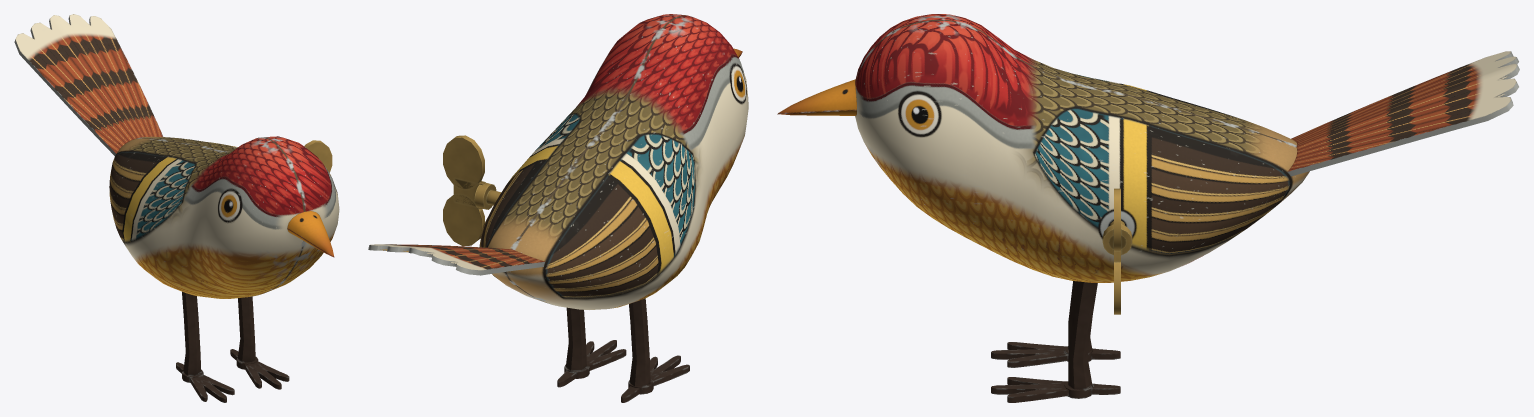
The model's file is TinBird.fbx.
The picture shows the model from 3 angles, left to right: view 1: azimuth 30°, elevation 25°; view 2: azimuth 150°, elevation 25°; view 3: azimuth 270°, elevation 25°; orthographic projection. The views are drawn at different scales.
Parts seen in each view (by area): view 1: TinBird_Body, TinBird_Tail, TinBird_Legs, TinBird_Bill, TinBird_Key; view 2: TinBird_Body, TinBird_Legs, TinBird_Key, TinBird_Tail; view 3: TinBird_Body, TinBird_Tail, TinBird_Legs, TinBird_Key, TinBird_Bill.
Boxes of the visible parts, x1,y1,x2,y2 form: TinBird_Body: (109,136,339,298); TinBird_Tail: (14,14,163,155); TinBird_Legs: (176,291,289,402); TinBird_Bill: (287,211,334,256); TinBird_Key: (304,140,332,172); TinBird_Body: (479,14,748,309); TinBird_Legs: (557,298,689,402); TinBird_Key: (443,135,501,246); TinBird_Tail: (368,244,544,275); TinBird_Body: (855,14,1309,282); TinBird_Tail: (1287,51,1519,176); TinBird_Legs: (991,281,1120,402); TinBird_Key: (1102,188,1132,314); TinBird_Bill: (778,79,856,113).
Bounding box in the file's own units: 0.184 × 0.2379 × 0.4509.
Materials: 1 (1 with a texture image).
